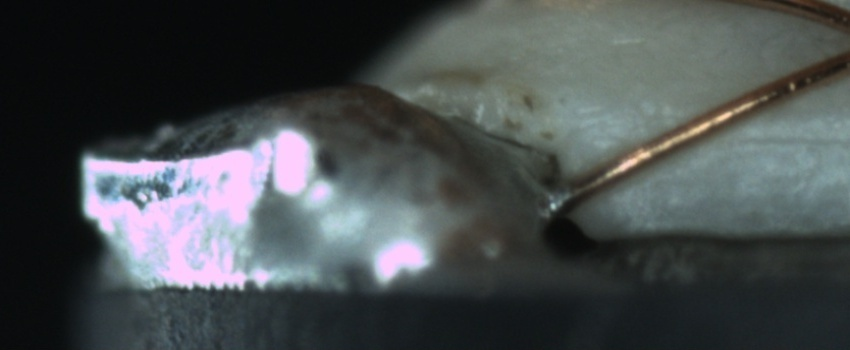DL: (700, 106, 847, 170)
